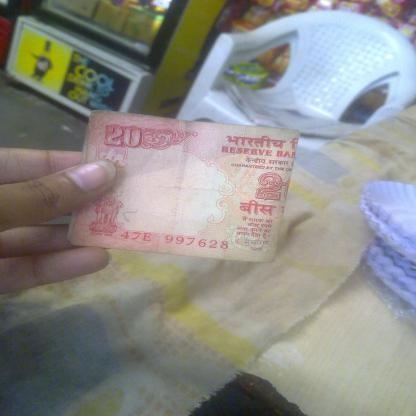Old20Front: (89, 120, 293, 254)
